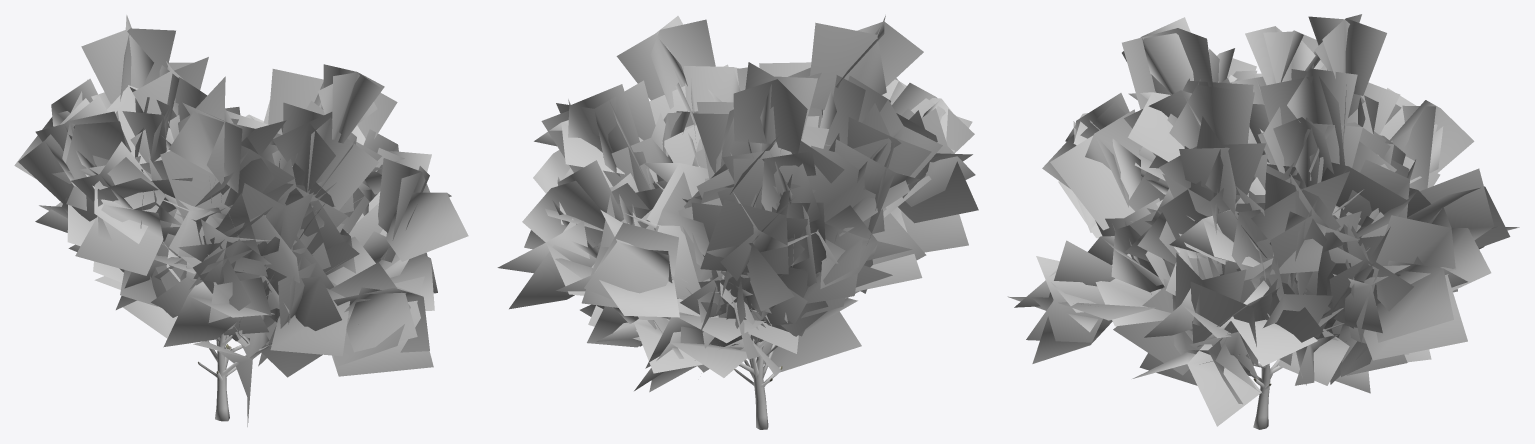
The model's file is BeechAmerican_D.fbx.
3 views of the same model, side by side, from view 1: azimuth 30°, elevation 25°; view 2: azimuth 150°, elevation 25°; view 3: azimuth 270°, elevation 25° (orthographic). The views are drawn at different scales.
Parts seen in each view (by area): view 1: BeechAmerican_D_LOD0; view 2: BeechAmerican_D_LOD0; view 3: BeechAmerican_D_LOD0.
Part boxes in pixels (x1,y1,x2,y2): BeechAmerican_D_LOD0: (14, 15, 468, 426); BeechAmerican_D_LOD0: (497, 15, 978, 429); BeechAmerican_D_LOD0: (1007, 14, 1519, 429).
Size of the model in its own units: 1531 by 1414 by 1725.
